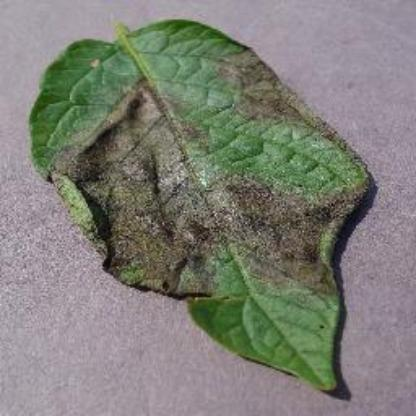Late-Blight: (29, 9, 394, 407)
